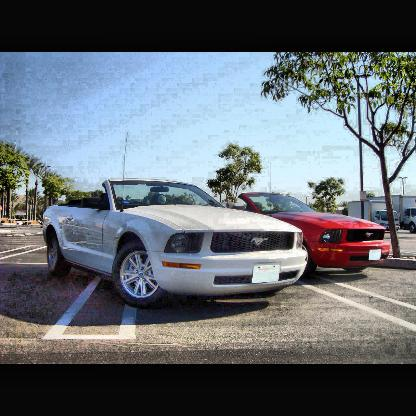Ford Mustang Convertible 2007: (41, 181, 307, 304)
